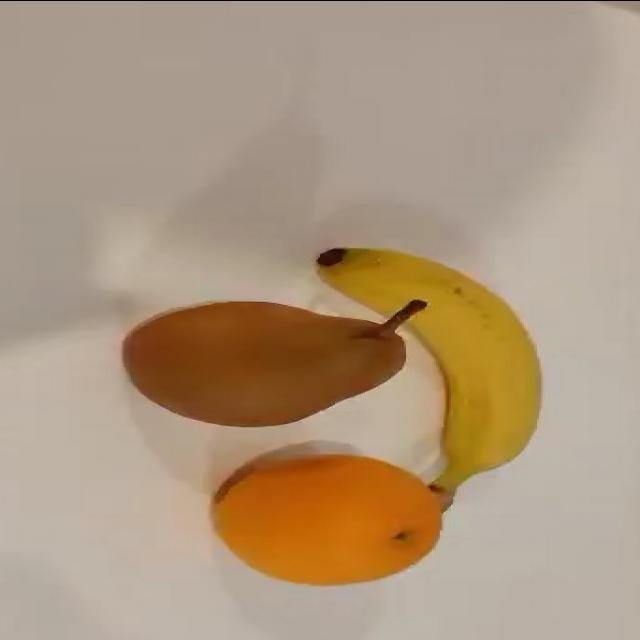Banana: (314, 245, 542, 513)
Orange: (209, 443, 443, 586)
